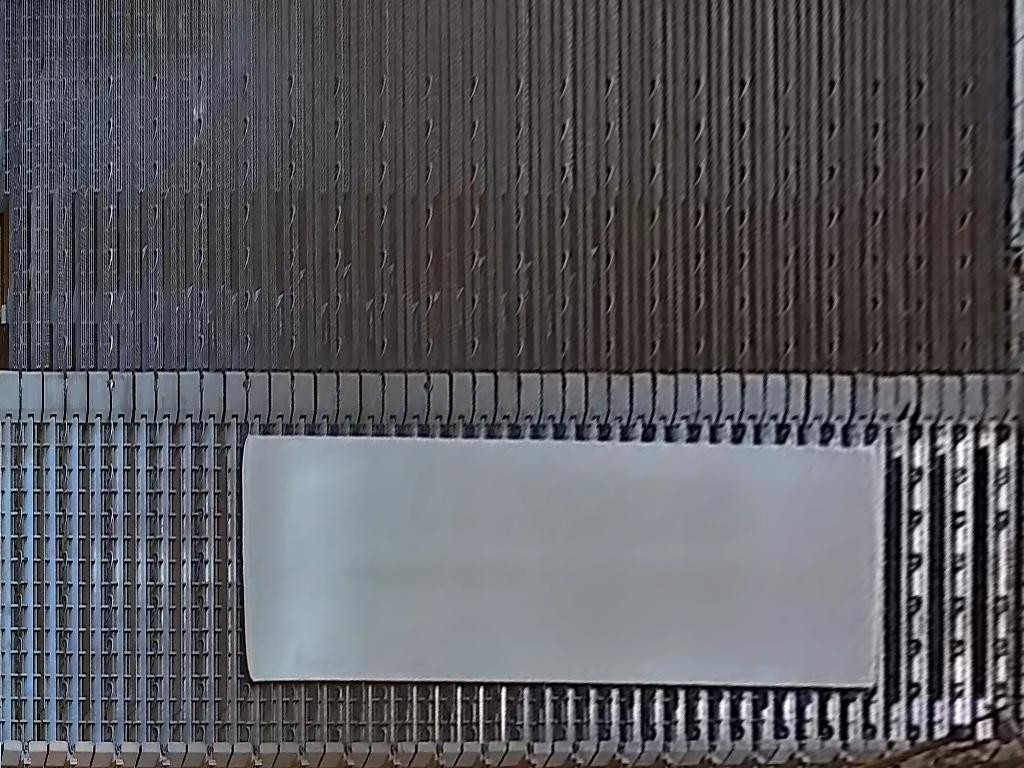steel: (241, 433, 881, 690)
